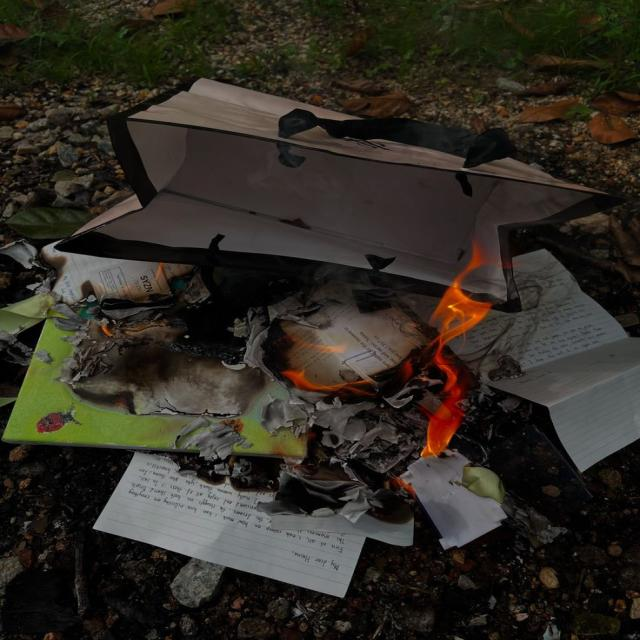fire: (423, 244, 491, 457), (278, 370, 375, 397)
